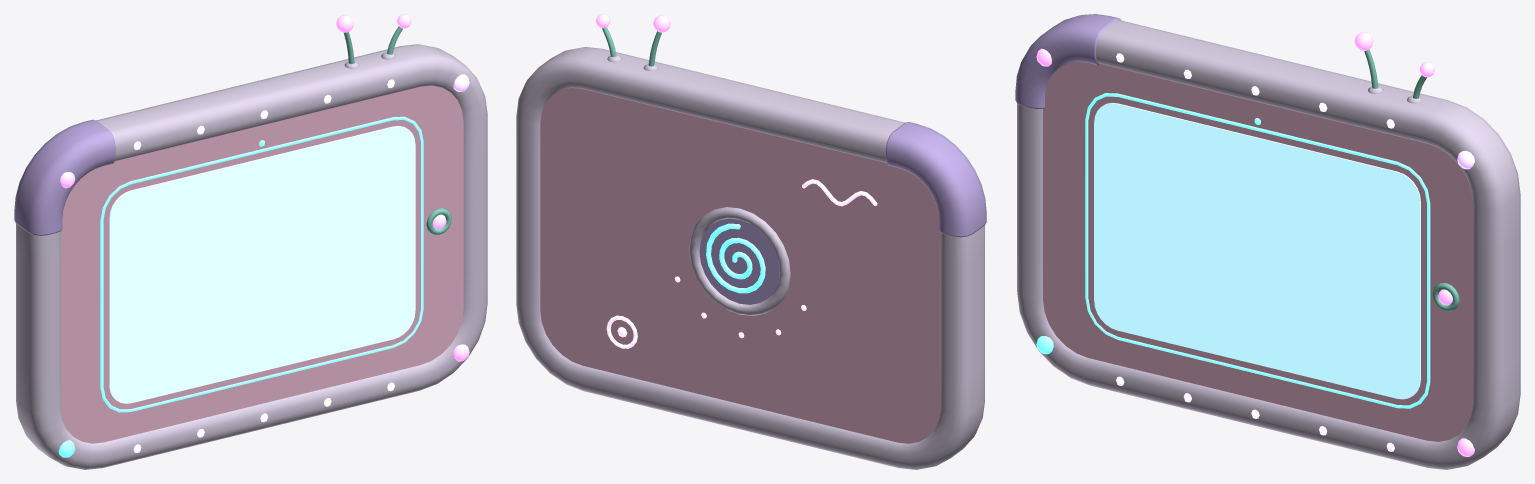
The model's file is tablet_after.fbx.
3 views of the same model, side by side, from view 1: azimuth 30°, elevation 25°; view 2: azimuth 150°, elevation 25°; view 3: azimuth 330°, elevation 25° (orthographic). The views are drawn at different scales.
Visible parts, largest first — view 1: Screen, Body, Bumper, RepairBand, ScreenGlowLine, PearlBeads; view 2: Body, Bumper, RepairBand, BackBadgeDisc, BackBadgeRing, BackSwirl, BackSymbols; view 3: Screen, Bumper, Body, ScreenGlowLine, RepairBand, PearlBeads.
Part boxes in pixels (x1,y1,x2,y2): Screen: (109, 126, 415, 403); Body: (60, 85, 463, 443); Bumper: (16, 44, 487, 469); RepairBand: (14, 119, 115, 235); ScreenGlowLine: (100, 116, 423, 412); PearlBeads: (133, 79, 394, 452); Body: (540, 88, 940, 443); Bumper: (516, 47, 984, 469); RepairBand: (886, 122, 986, 237); BackBadgeDisc: (699, 218, 779, 304); BackBadgeRing: (689, 207, 790, 315); BackSwirl: (706, 223, 765, 293); BackSymbols: (606, 179, 877, 348); Screen: (1094, 102, 1420, 399); Bumper: (1017, 20, 1520, 469); Body: (1043, 62, 1472, 441); ScreenGlowLine: (1085, 93, 1430, 408); RepairBand: (1015, 14, 1121, 108); PearlBeads: (1116, 53, 1394, 451).
Bounding box in the file's own units: 0.4012 × 0.3248 × 0.0435.
